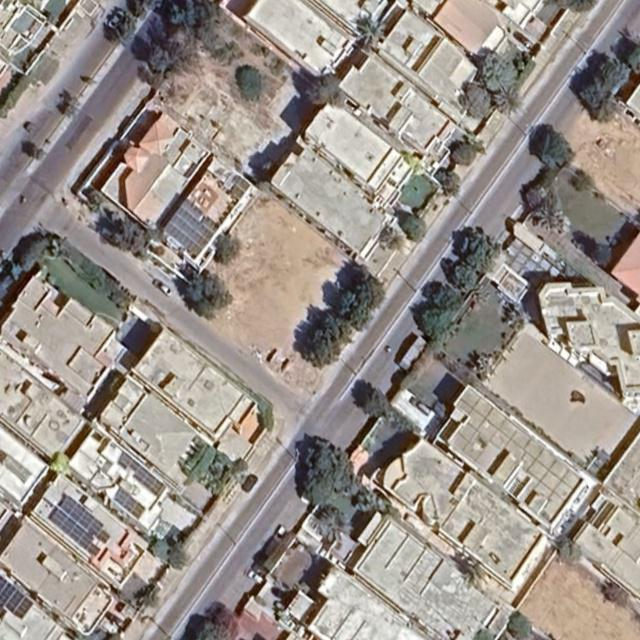solar panel: (49, 494, 111, 557), (163, 199, 220, 258), (117, 452, 165, 497), (0, 577, 34, 621), (112, 486, 146, 520)
